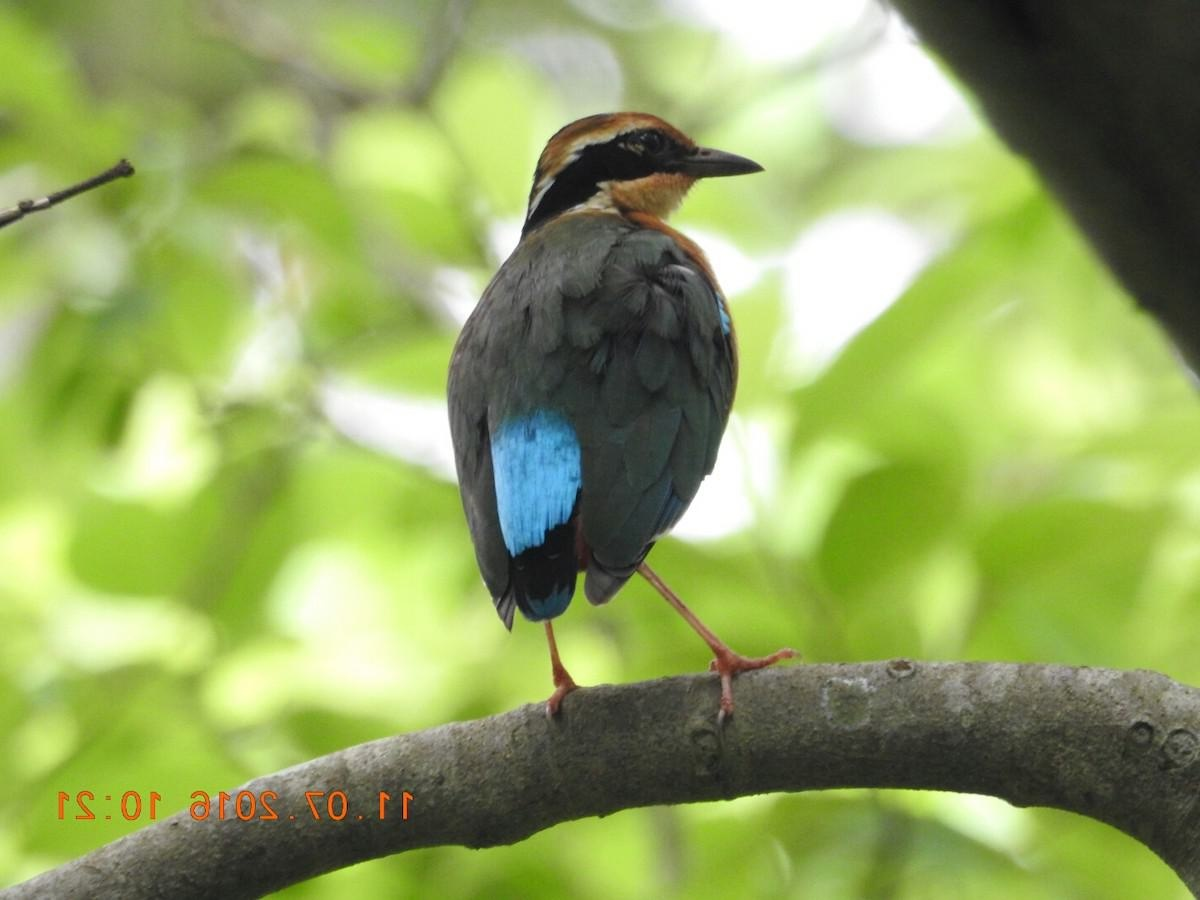pitta: (345, 74, 883, 738)
